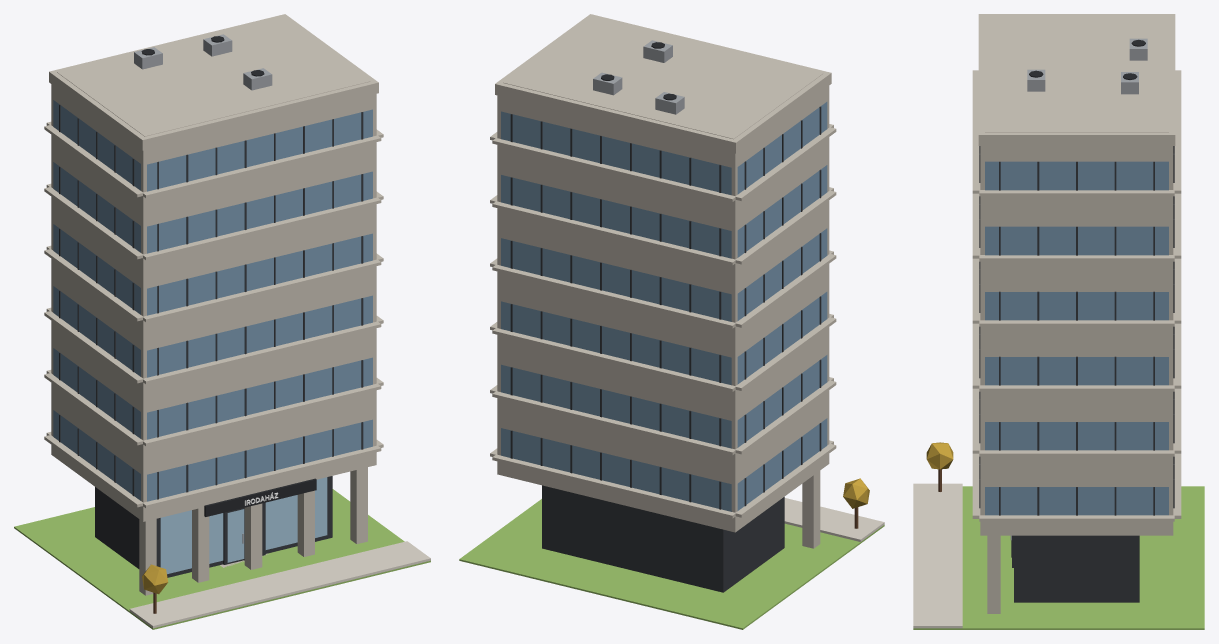
The model's file is Buro_yetmisler_2_Hafif.fbx.
3 renders of one model, left to right at view 1: azimuth 30°, elevation 25°; view 2: azimuth 150°, elevation 25°; view 3: azimuth 270°, elevation 25°, orthographic. The views are drawn at different scales.
Visible parts, largest first — view 1: Buro_yetmisler_2_Hafif; view 2: Buro_yetmisler_2_Hafif; view 3: Buro_yetmisler_2_Hafif.
Part boxes in pixels (x1,y1,x2,y2): Buro_yetmisler_2_Hafif: (14, 14, 430, 629); Buro_yetmisler_2_Hafif: (459, 14, 884, 629); Buro_yetmisler_2_Hafif: (913, 14, 1204, 629).
Bounding box in the file's own units: 15 × 24.52 × 13.
